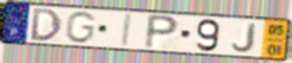9: (195, 18, 221, 52)
D: (30, 7, 64, 42)
G: (63, 10, 98, 45)
I: (120, 13, 134, 48)
J: (230, 22, 259, 54)
P: (142, 13, 182, 51)
